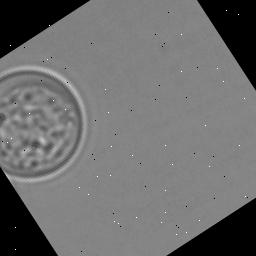picoshell: (0, 64, 89, 181)
